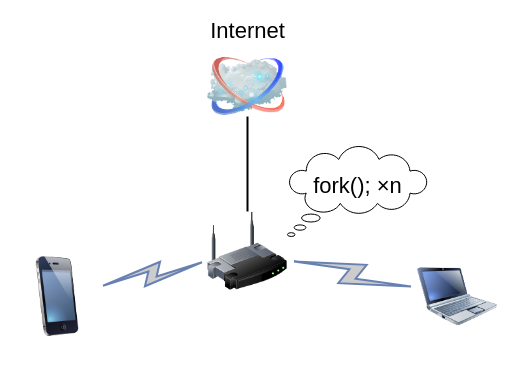
Some shapes in this 514 by 386 pixel diagram are drawn without their labels. The shapes that lost their labels are listed below. From the top down, each one's centre as x and y in pixels, then its label:
pixel 57 296: Mobile
pixel 457 296: Laptop
